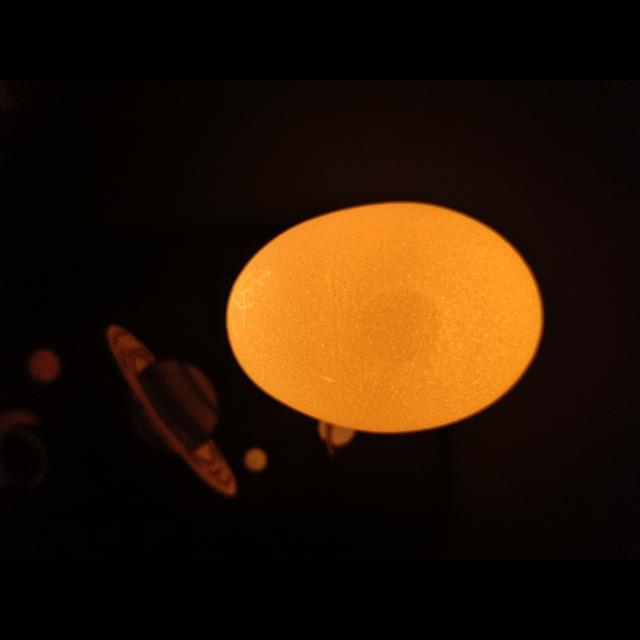AA - Premium: (226, 203, 543, 433)
